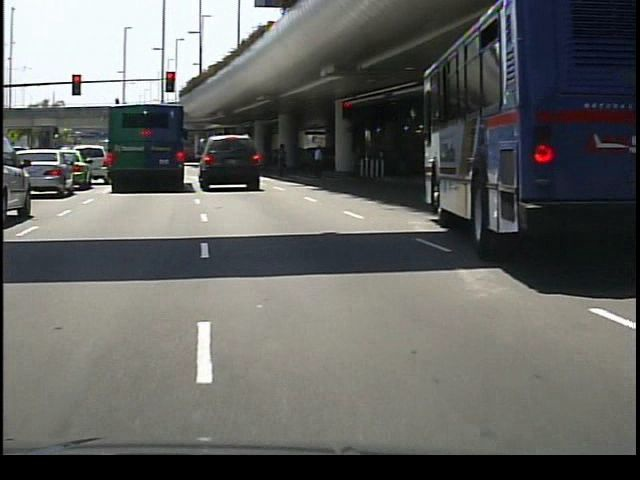person: (274, 140, 295, 181), (308, 145, 328, 182)
